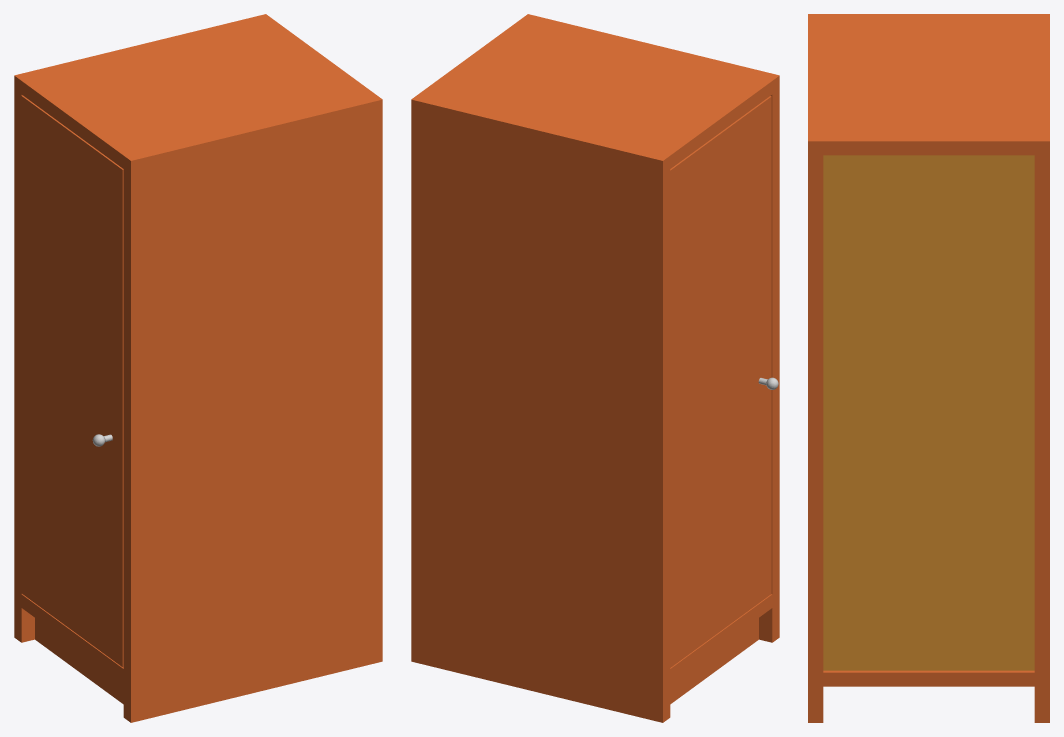
The model's file is Wardrobe_Single_L_01.fbx.
3 views of the same model, side by side, from view 1: azimuth 30°, elevation 25°; view 2: azimuth 150°, elevation 25°; view 3: azimuth 270°, elevation 25° (orthographic). The views are drawn at different scales.
Visible parts, largest first — view 1: Cube, Cube.001; view 2: Cube, Cube.001; view 3: Cube.002, Cube.
Part boxes in pixels (<box>): Cube: <box>14,14,382,722</box>; Cube.001: <box>20,95,123,667</box>; Cube: <box>411,14,779,722</box>; Cube.001: <box>669,96,771,667</box>; Cube.002: <box>823,155,1034,670</box>; Cube: <box>808,14,1049,722</box>.
Bounding box in the file's own units: 107 × 213 × 80.41.
